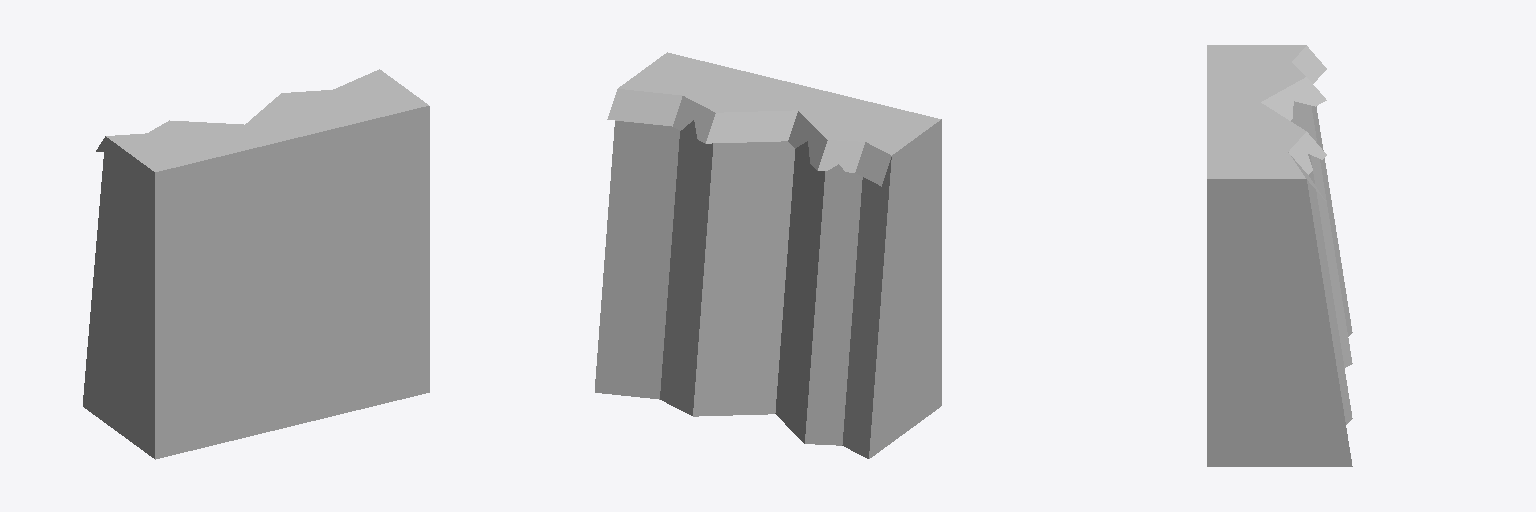
The model's file is cliffGrey_top.obj.
3 views of the same model, side by side, from view 1: azimuth 30°, elevation 25°; view 2: azimuth 150°, elevation 25°; view 3: azimuth 270°, elevation 25° (orthographic).
Parts seen in each view (by area): view 1: cliffGrey_top; view 2: cliffGrey_top; view 3: cliffGrey_top.
Boxes of the visible parts, box(x1,y1,x2,y2) form: cliffGrey_top: box(83, 69, 429, 459); cliffGrey_top: box(595, 52, 941, 458); cliffGrey_top: box(1207, 45, 1352, 466).
Size of the model in its own units: 10 by 10 by 4.58.